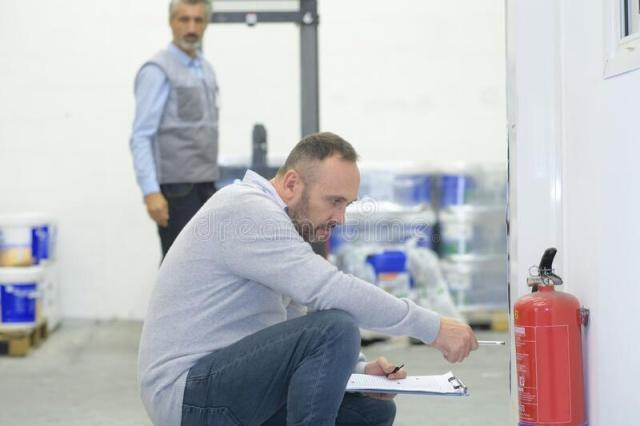APAR: (512, 245, 588, 425)
